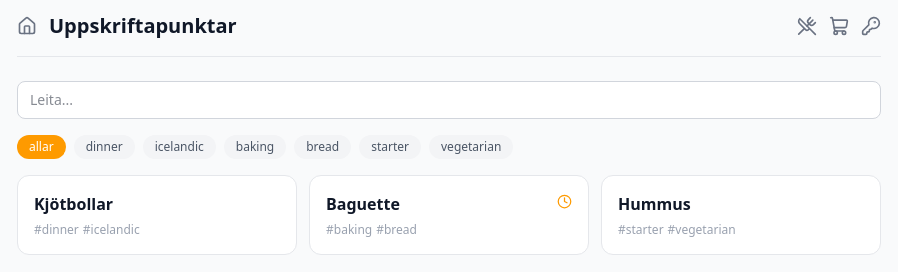
Scenario: Home page › restores full list when All button is clicked
Expected: the text "Kjötbollar" is shown, 34,192 -> 113,216
Click the button "baking" at (255, 147), box 224,135 -> 286,159
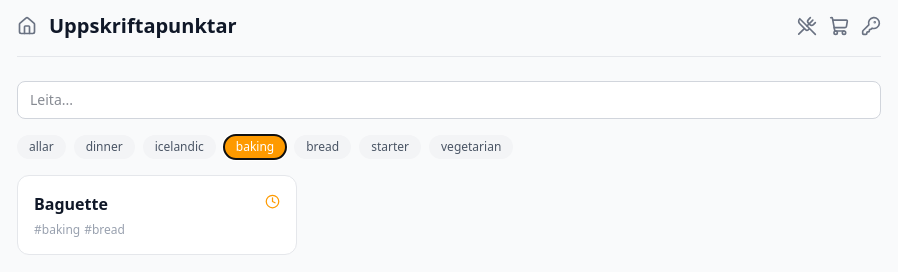
Click the button "allar" at (41, 147), box 17,135 -> 66,159
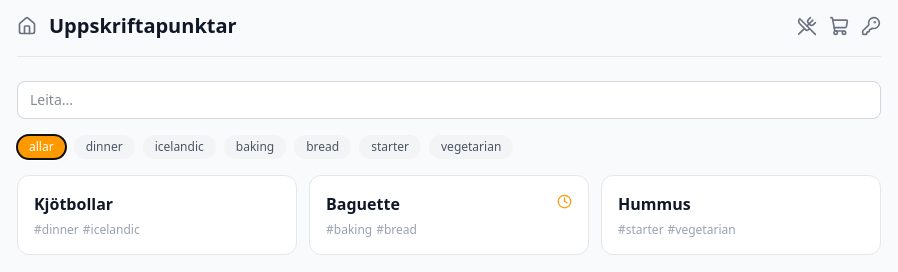
Expected: the text "Kjötbollar" is shown, 34,192 -> 113,216
Expected: the text "Hummus" is shown, 618,192 -> 691,216
